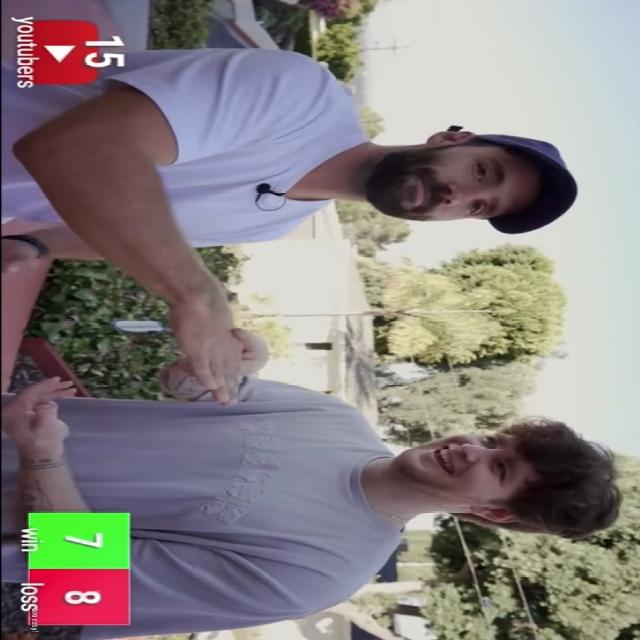Paper: (174, 298, 242, 408)
Scissors: (232, 327, 274, 373)
